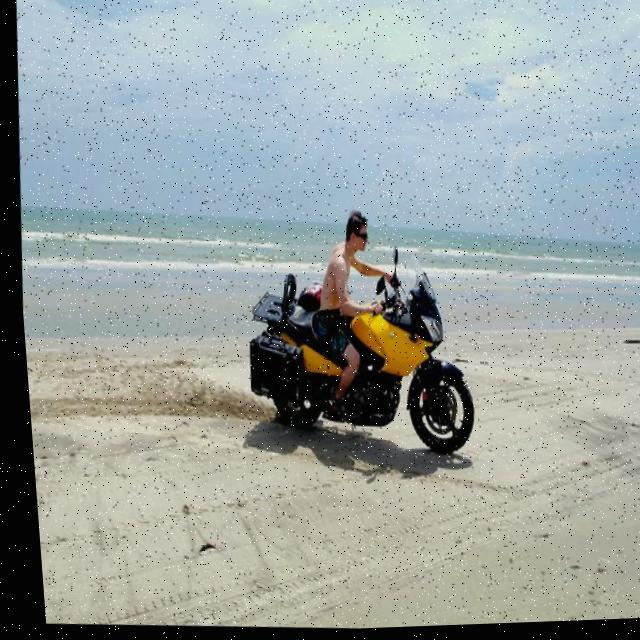motorcycle: (235, 247, 490, 463)
